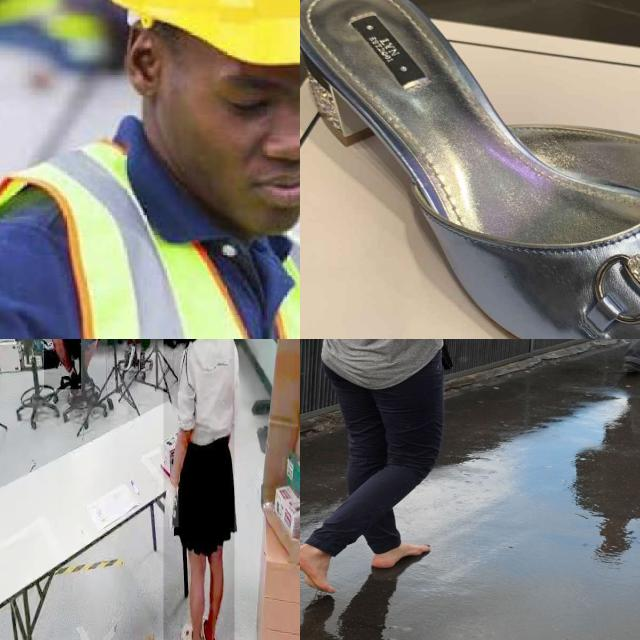Barefoots: (300, 545, 335, 593), (371, 543, 431, 568)
No_Ear-Protection: (123, 17, 167, 99)
No_Glasses: (200, 58, 300, 126)
Sandals: (300, 0, 640, 339)
hand_glove: (158, 479, 179, 528)
person: (163, 339, 234, 640), (44, 339, 81, 390), (107, 339, 150, 380)
